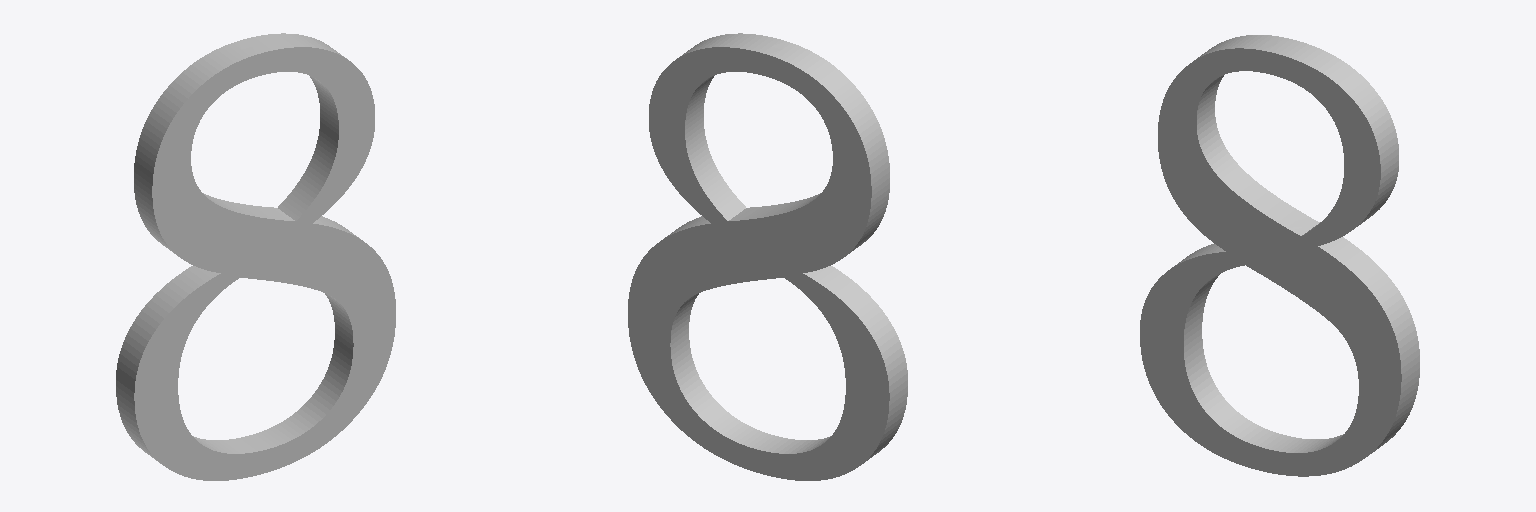
3 views of the same model, side by side, from view 1: azimuth 30°, elevation 25°; view 2: azimuth 150°, elevation 25°; view 3: azimuth 330°, elevation 25° (orthographic).
Parts seen in each view (by area): view 1: mmGroup0.006; view 2: mmGroup0.006; view 3: mmGroup0.006.
Part boxes in pixels (left/top/right/bottom): mmGroup0.006: left=116, top=33, right=395, bottom=480; mmGroup0.006: left=628, top=33, right=907, bottom=480; mmGroup0.006: left=1140, top=35, right=1419, bottom=476.
Size of the model in its own units: 4.86 by 7.47 by 0.6.